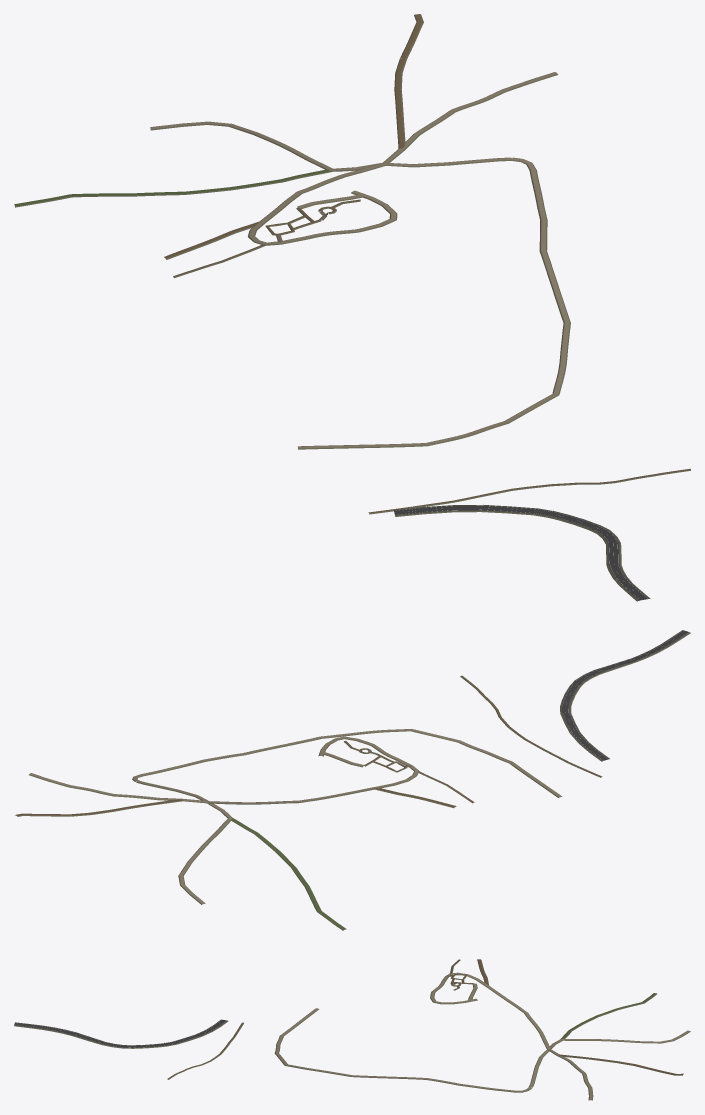
The picture shows the model from 3 angles, top to bottom: view 1: azimuth 30°, elevation 25°; view 2: azimuth 150°, elevation 25°; view 3: azimuth 270°, elevation 25°; orthographic projection. The views are drawn at different scales.
Visible parts, largest first — view 1: roads; view 2: roads; view 3: roads.
Part boxes in pixels (box(x1,y1,x2,y2)): roads: box(14, 14, 690, 601); roads: box(15, 630, 690, 930); roads: box(14, 959, 690, 1100).
Size of the model in its own units: 399 by 108 by 808.
